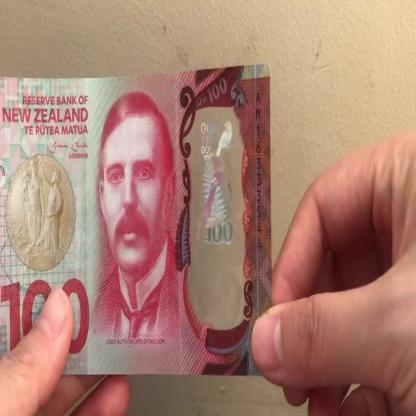100F: (197, 114, 239, 305)
